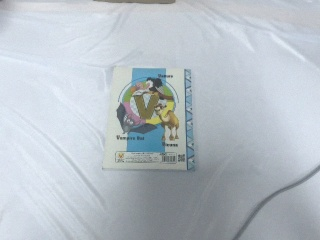book: (100, 63, 206, 173)
